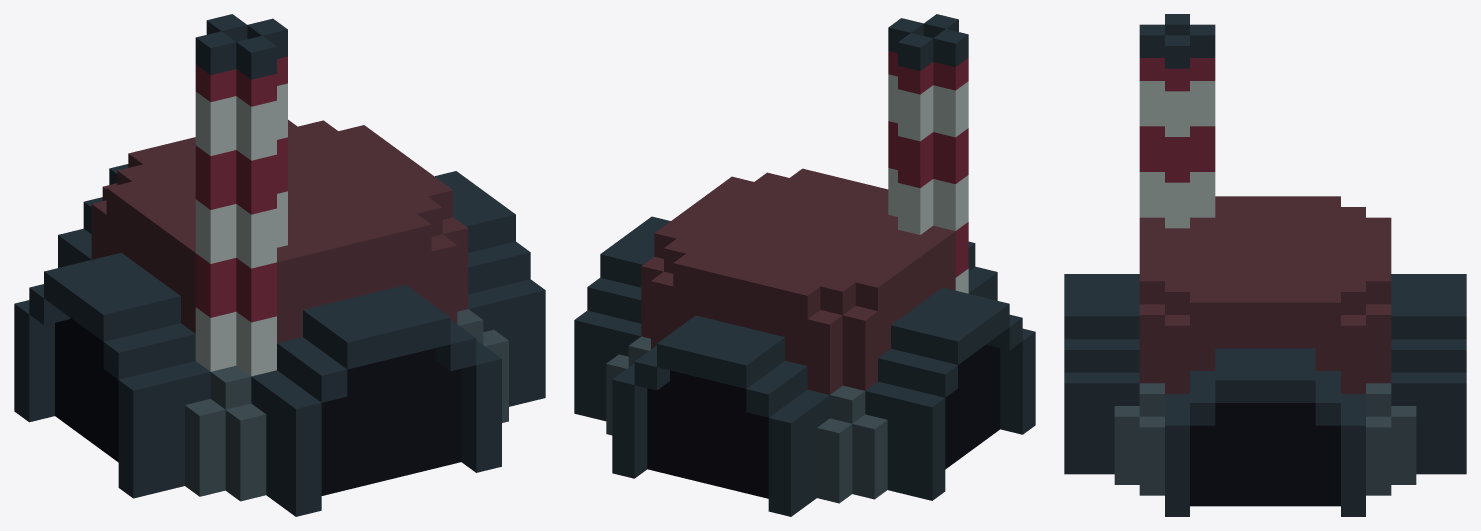
File: BuildingRefinery.obj
3 views of the same model, side by side, from view 1: azimuth 30°, elevation 25°; view 2: azimuth 150°, elevation 25°; view 3: azimuth 270°, elevation 25° (orthographic). The views are drawn at different scales.
Size of the model in its own units: 1.6 by 1.6 by 1.6.
Materials: 1 (1 with a texture image).
